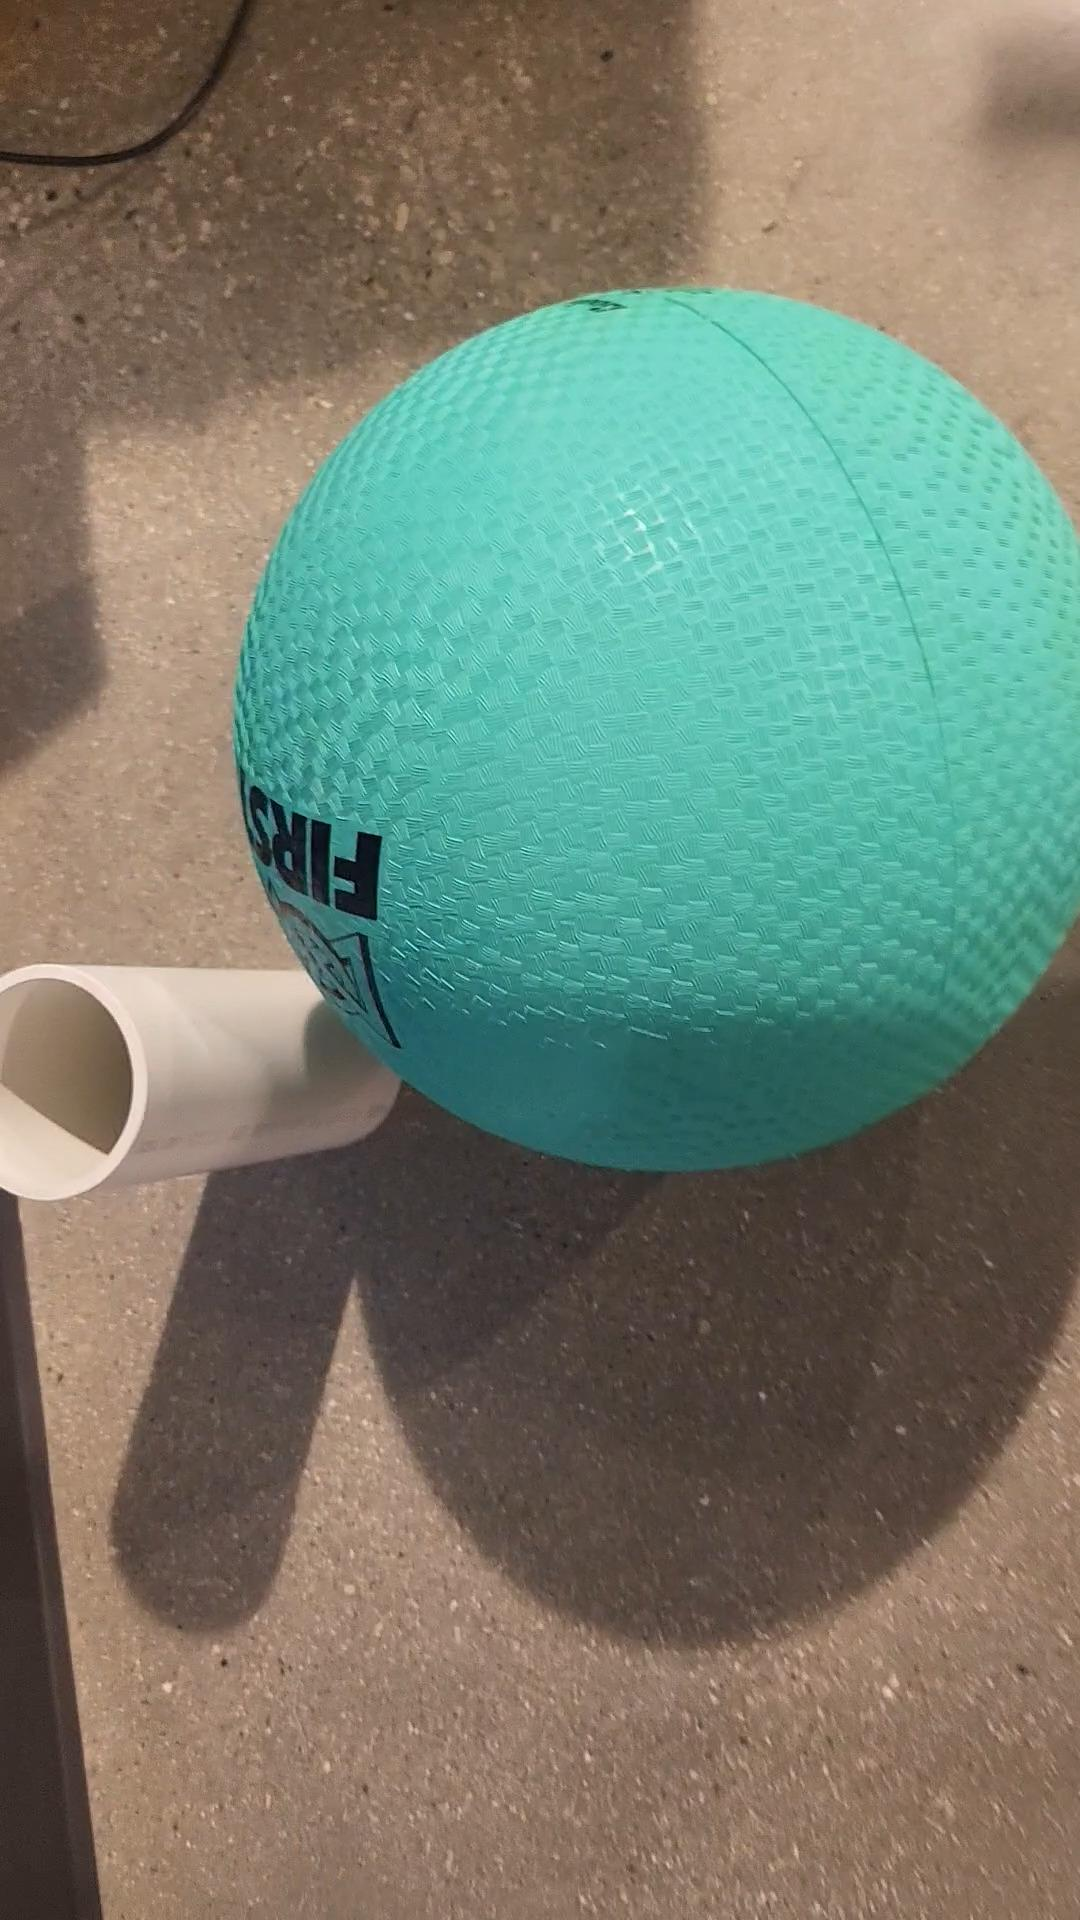algae: (235, 287, 1080, 1167)
coral: (0, 963, 393, 1203)
